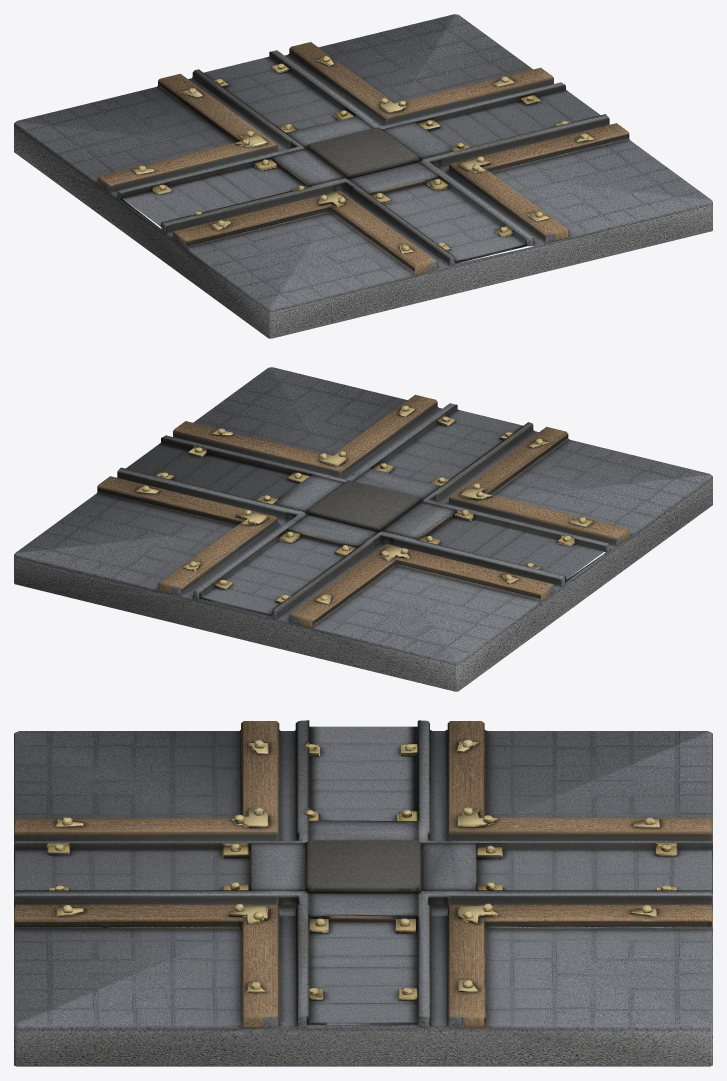
Rendered from tripo_convert_06f770bc-66c4-41c5-91dd-f64bd7847af4.fbx.
The picture shows the model from 3 angles, top to bottom: view 1: azimuth 30°, elevation 25°; view 2: azimuth 150°, elevation 25°; view 3: azimuth 270°, elevation 25°; orthographic projection. The views are drawn at different scales.
Parts seen in each view (by area): view 1: tripo_node_06f770bc; view 2: tripo_node_06f770bc; view 3: tripo_node_06f770bc.
Boxes of the visible parts, <box> form: tripo_node_06f770bc: <box>14,14,712,338</box>; tripo_node_06f770bc: <box>14,367,712,691</box>; tripo_node_06f770bc: <box>14,720,712,1066</box>.
Bounding box in the file's own units: 0.998 × 0.0918 × 0.998.
Materials: 1 (1 with a texture image).
